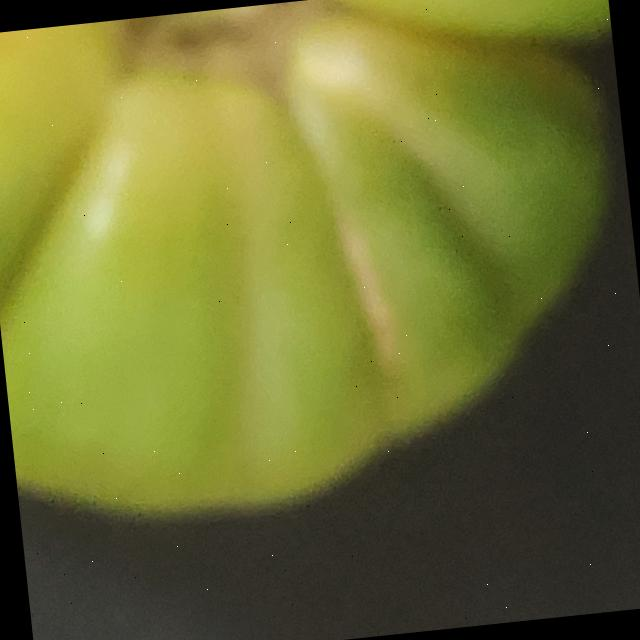tomato: (0, 0, 640, 576)
